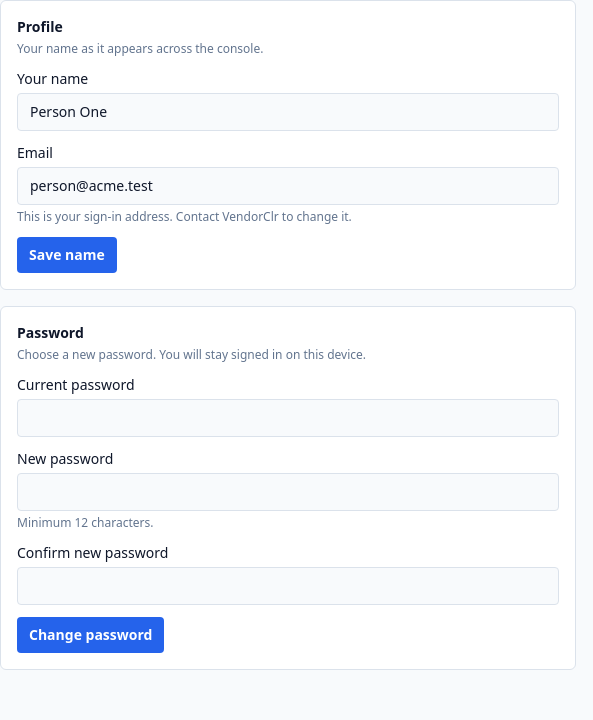
Test: AccountSettings › surfaces a wrong current password and does not update
Step 1. Type "wrongpassword1" into the password field labelled "Current password" → (288, 418), box [17,399,559,437]
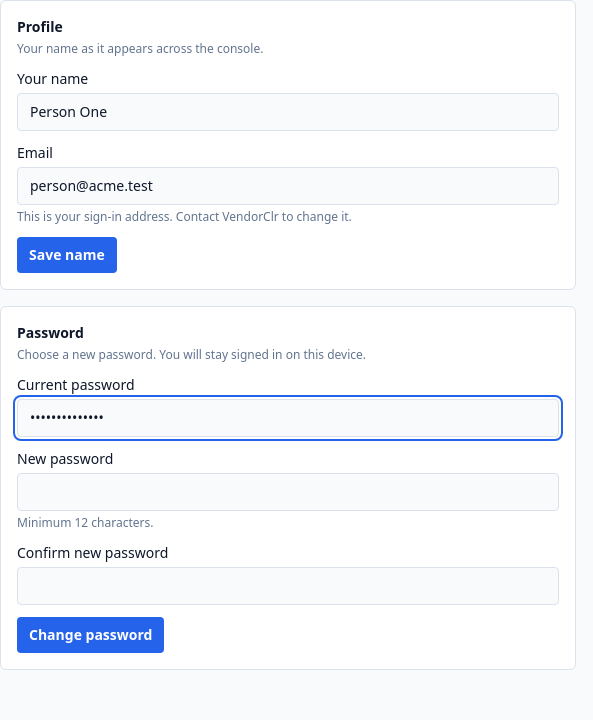
Step 2. Type "brandnewpassword1" into the password field labelled "New password" → (288, 492), box [17,473,559,511]
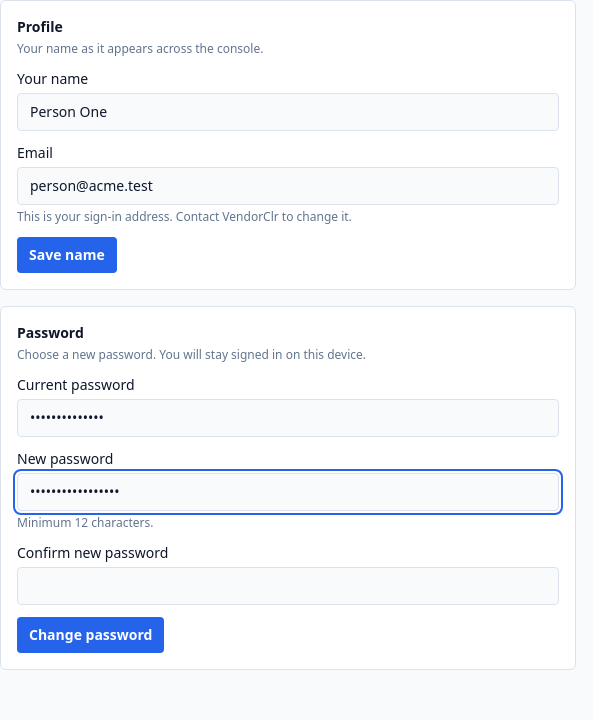
Step 3. Type "brandnewpassword1" into the password field labelled "Confirm new password" → (288, 586), box [17,567,559,605]
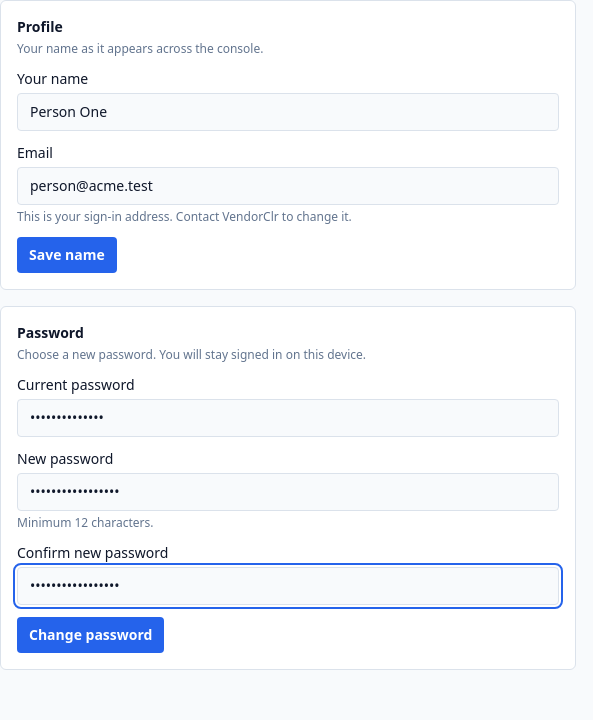
Step 4. Click the button "Change password" → click(91, 635), box [17,617,164,653]
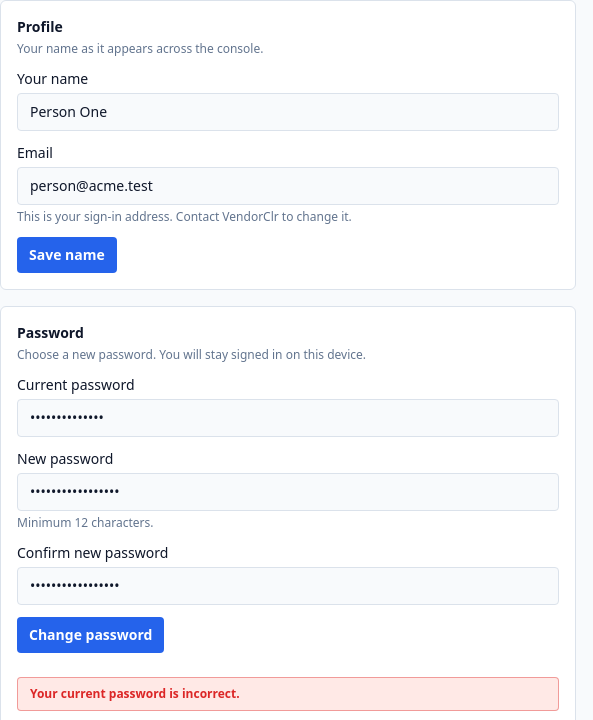
Expected: the text "Your current password is incorrect." is shown, [17,677,559,711]
